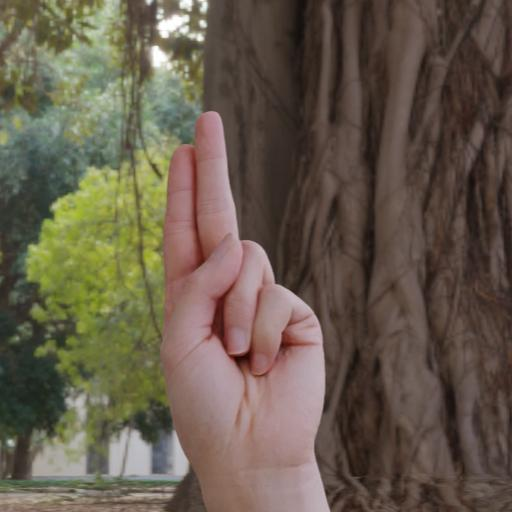U: (142, 102, 341, 488)
